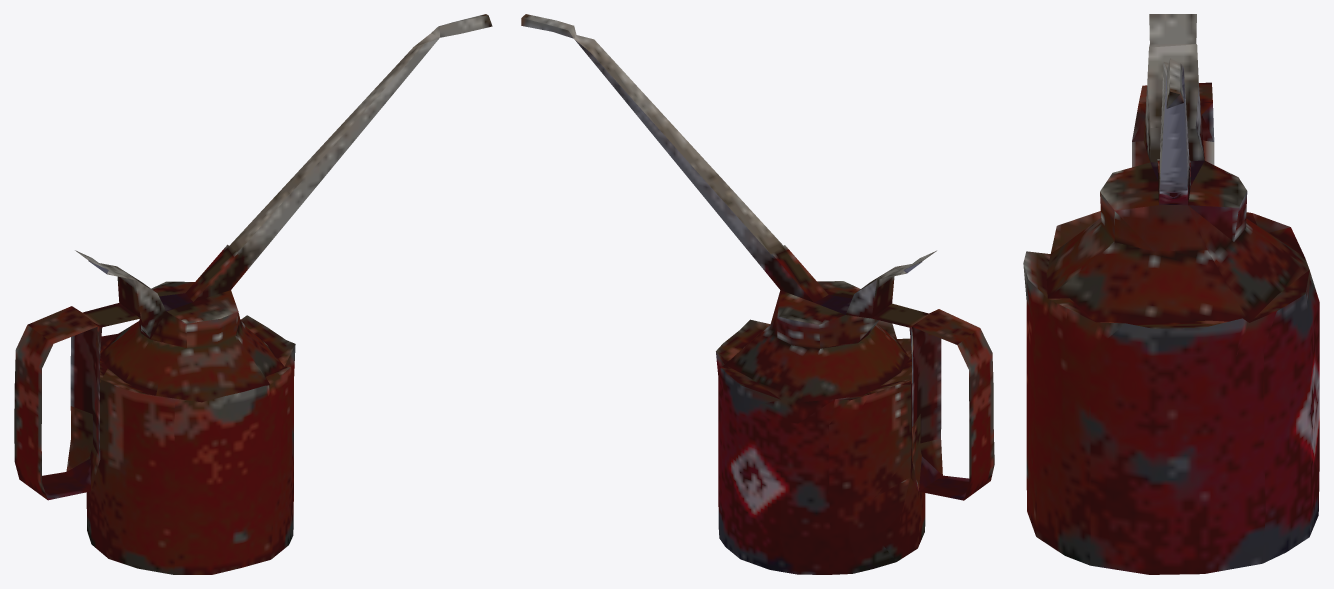
File: small_oil_can_01.glb
3 views of the same model, side by side, from view 1: azimuth 30°, elevation 25°; view 2: azimuth 150°, elevation 25°; view 3: azimuth 270°, elevation 25° (orthographic). The views are drawn at different scales.
Visible parts, largest first — view 1: mesh; view 2: mesh; view 3: mesh.
Boxes of the visible parts, x1,y1,x2,y2 form: mesh: [14, 14, 492, 574]; mesh: [521, 14, 994, 574]; mesh: [1023, 14, 1319, 574].
Bounding box in the file's own units: 0.2562 × 0.2368 × 0.1009.
1 material, 1 textured.
